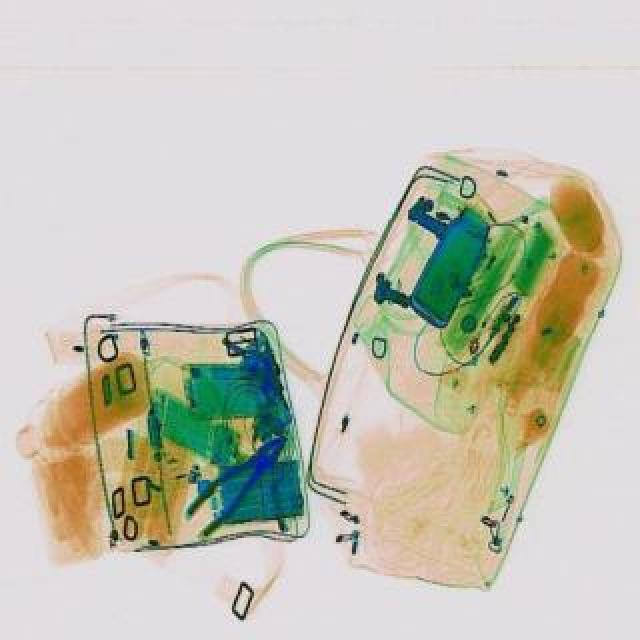wrench: (176, 420, 302, 538)
